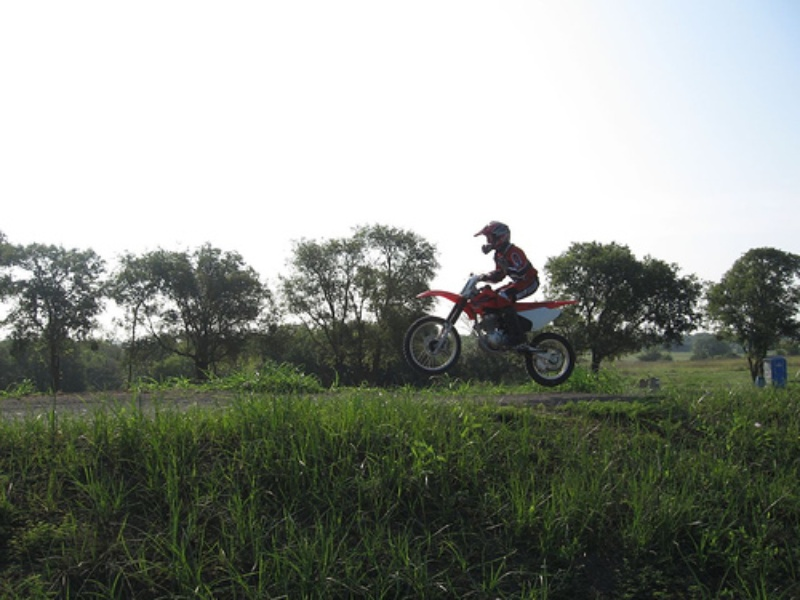person: (473, 220, 541, 350)
